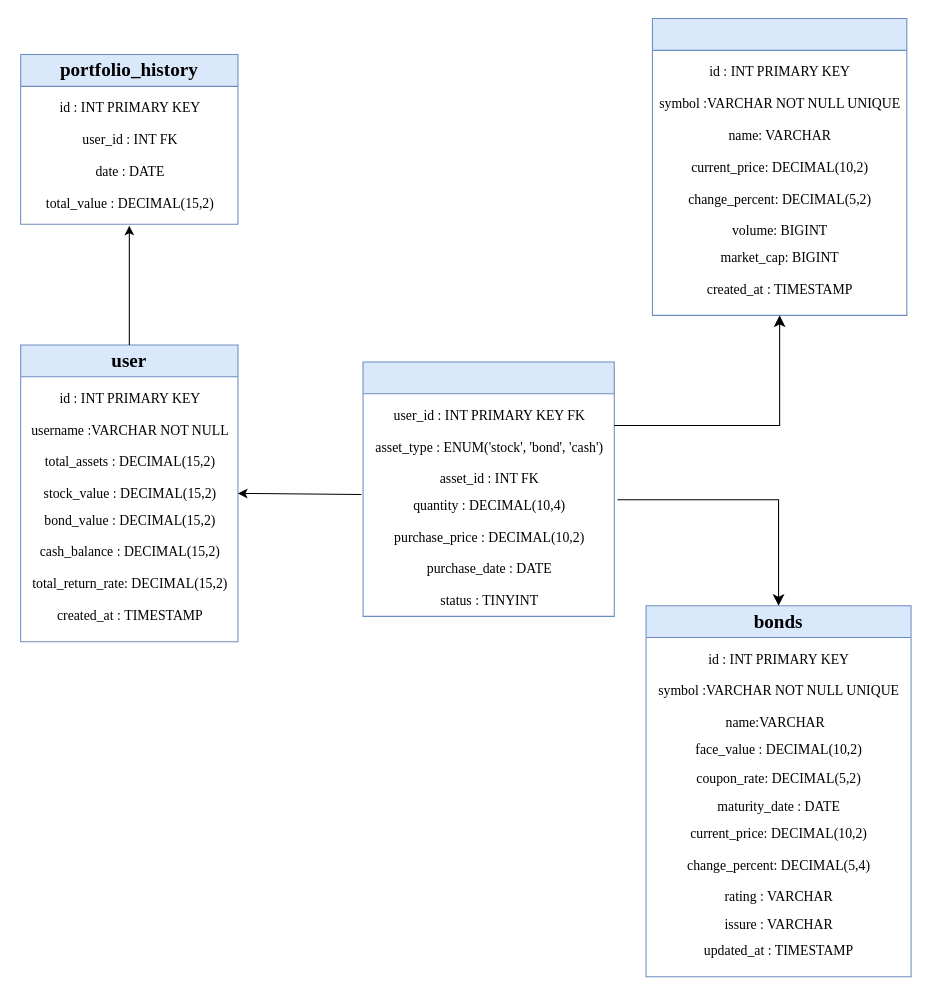
Image size: 931x995. Some labels were removed from this diagram. The shapes that lost their labels are listed below. From the top down, each one's box as (x1, y1, x2, y2) in pixels, then its label:
(651, 17, 907, 315): stocks
(362, 361, 614, 616): portfolio
